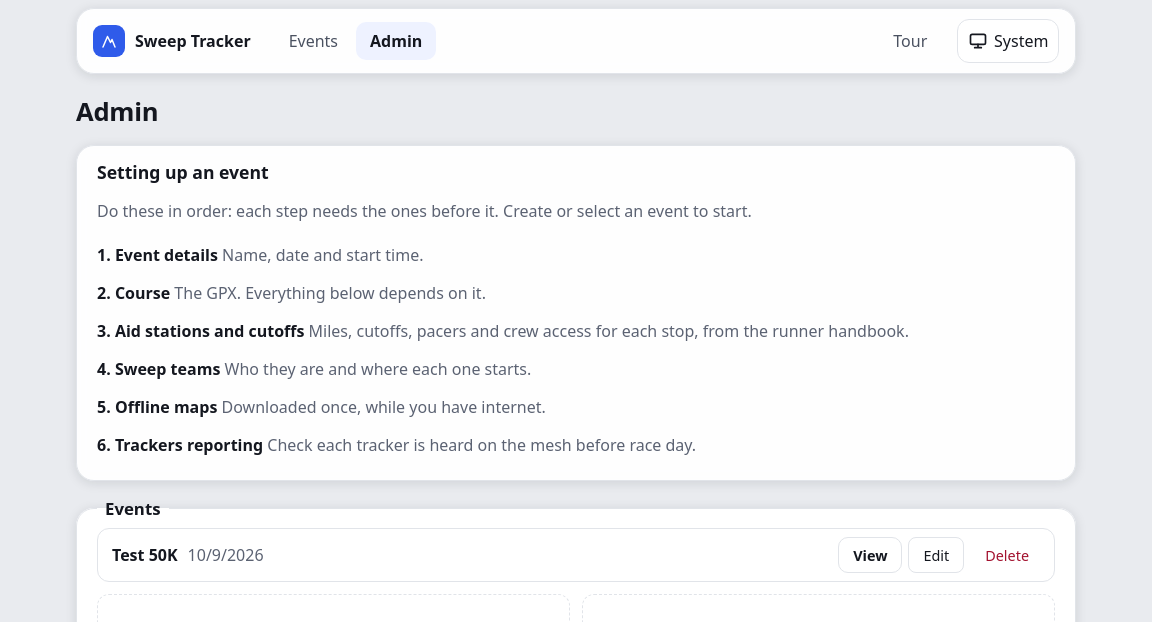
Test: AdminPage › aid stations › has a row for every pass of the course, in course order
The image size is (1152, 622).
Click the button with aria-label "Edit Test 50K": x=936, y=555 [908, 537, 964, 573]
(page scrolled)
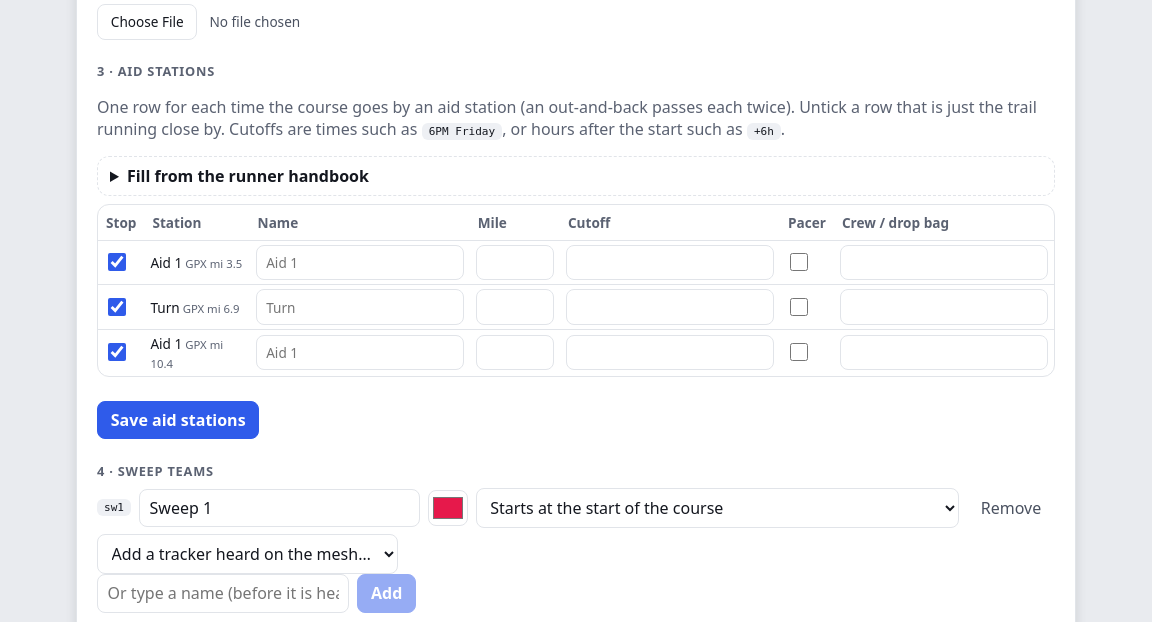
Check: the number of checkboxes named "is a real stop" is 3, box [108, 253, 126, 271]; [108, 298, 126, 316]; [108, 343, 126, 361]
